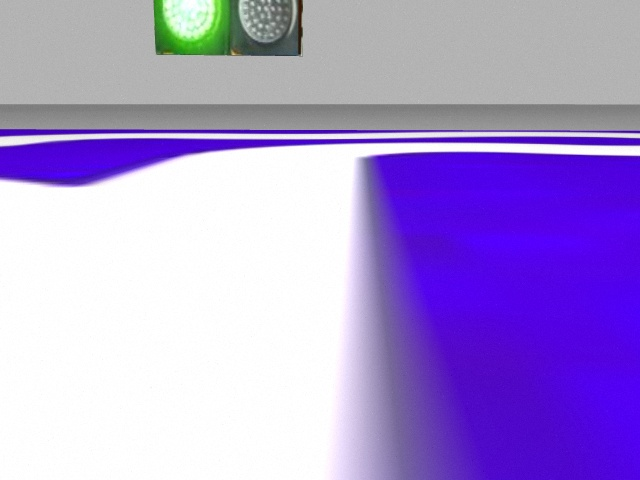green: (152, 1, 231, 57)
